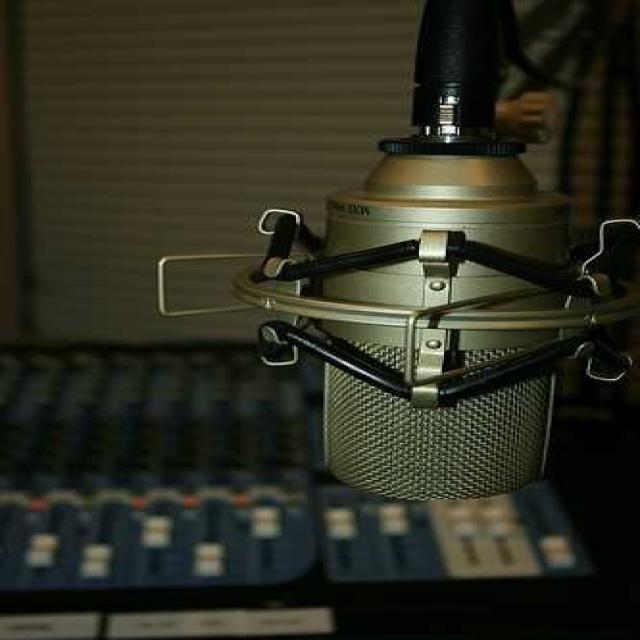microphone: (280, 29, 599, 506)
